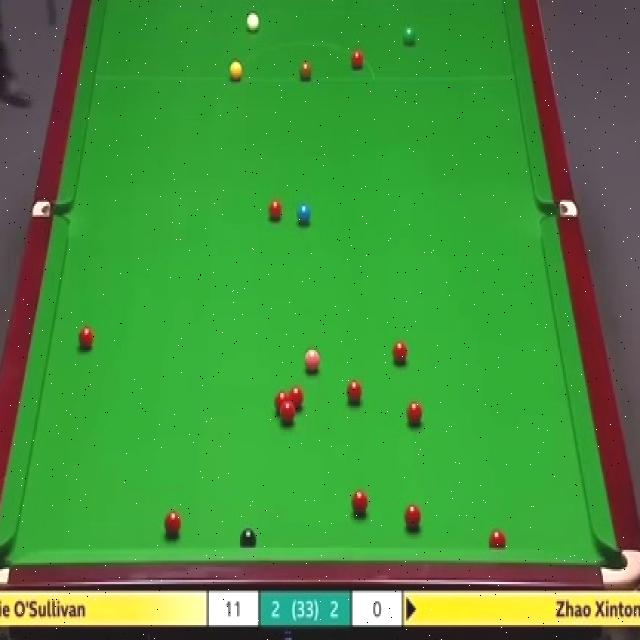black-ball: (238, 526, 256, 546)
blue-ball: (296, 204, 312, 226)
brown-ball: (299, 58, 312, 80)
green-ball: (400, 24, 416, 47)
pink-ball: (304, 349, 321, 375)
red-ball: (406, 399, 424, 429), (351, 489, 368, 516), (78, 326, 93, 355), (347, 377, 363, 404), (405, 506, 423, 530), (163, 512, 180, 537), (268, 197, 284, 222), (487, 530, 509, 548), (289, 386, 304, 412), (274, 391, 289, 417), (348, 48, 365, 70), (280, 404, 296, 426), (392, 341, 407, 363)
white-ball: (244, 10, 260, 34)
yellow-ball: (228, 61, 244, 81)
